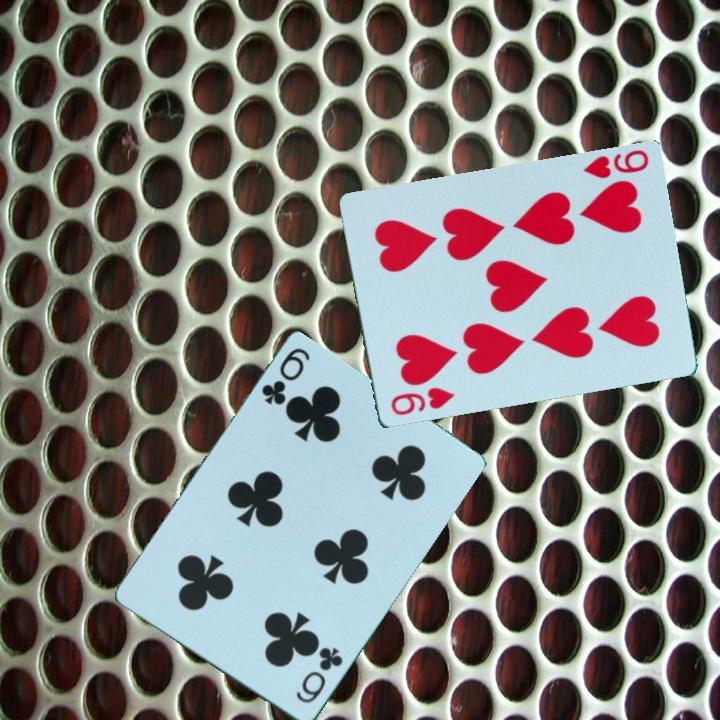6c: (258, 344, 314, 409), (292, 644, 347, 708)
9h: (579, 146, 652, 182), (387, 384, 458, 419)
